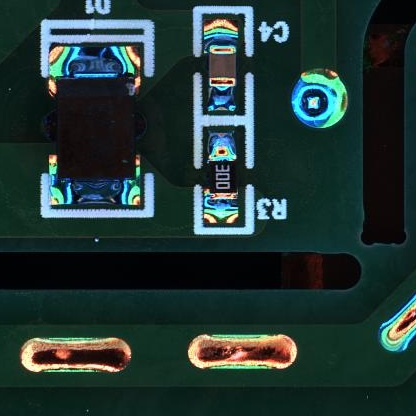spot: (291, 70, 349, 130)
